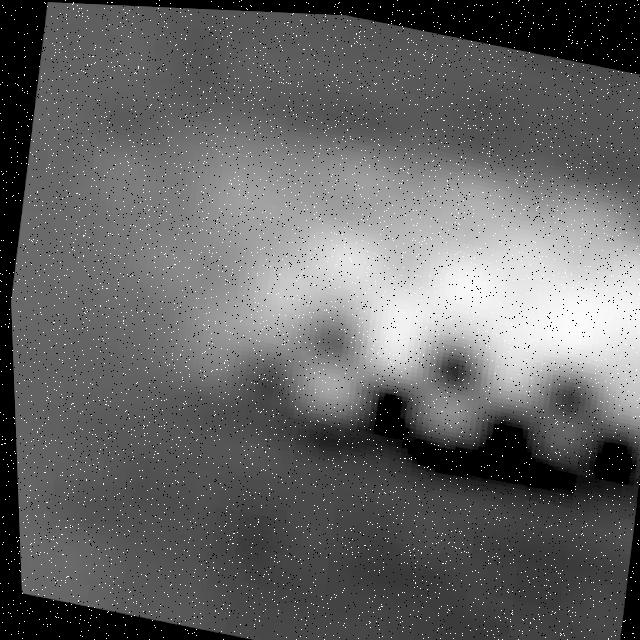person: (117, 97, 640, 461)
